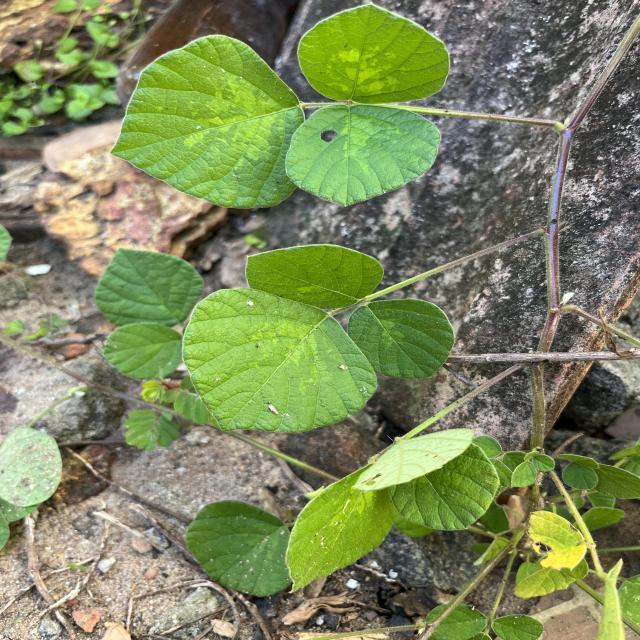Pseudarthria viscida: (109, 2, 452, 212), (180, 243, 458, 435)
